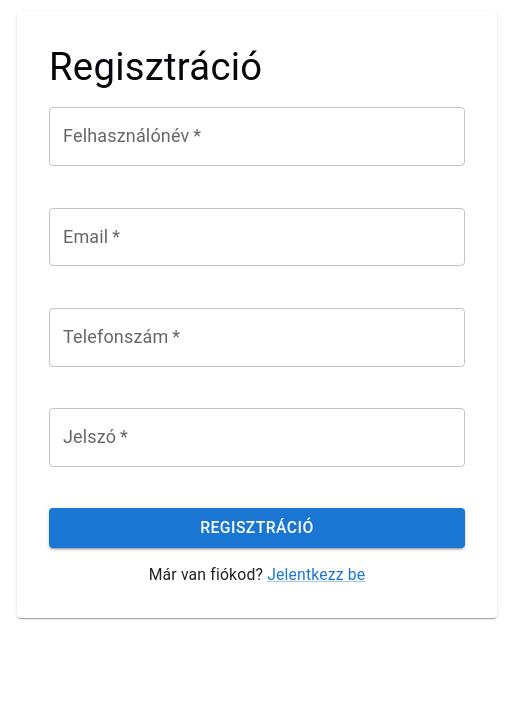
Test: Register oldal › általános szerverhibát hibaüzenetben jelenít meg
In the field named "username": (257, 137) [49, 107, 465, 166], type "foglalt"
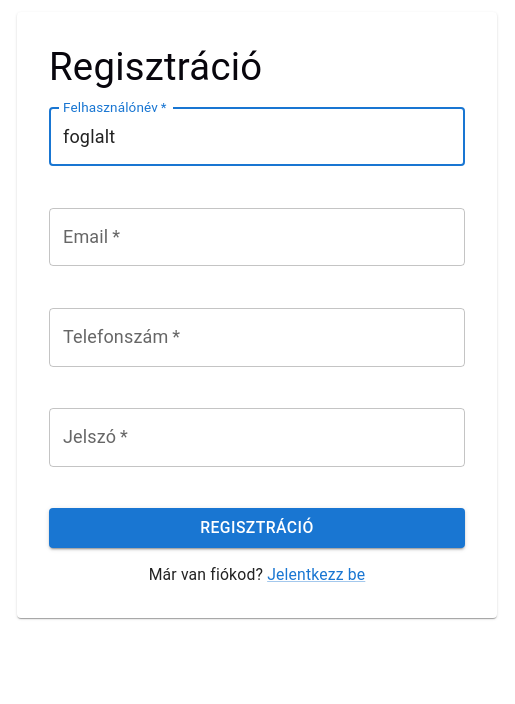
In the field labelled "Email": (257, 237) [49, 208, 465, 266], type "a@b.com"
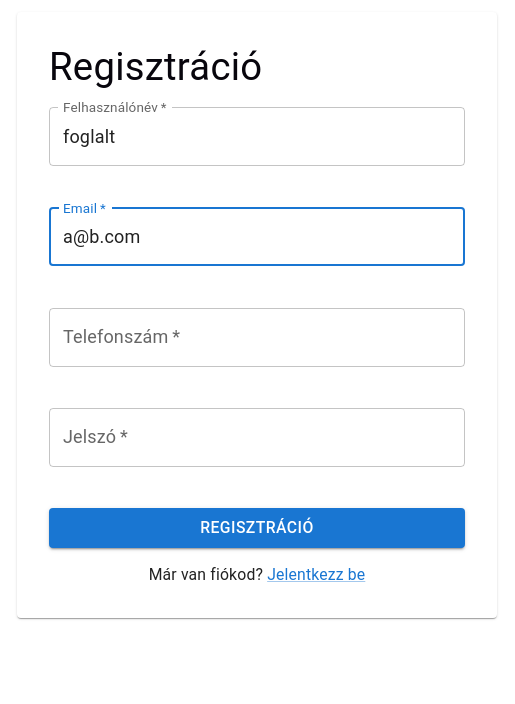
In the field named "phone": (257, 337) [49, 308, 465, 367], type "06301234567"
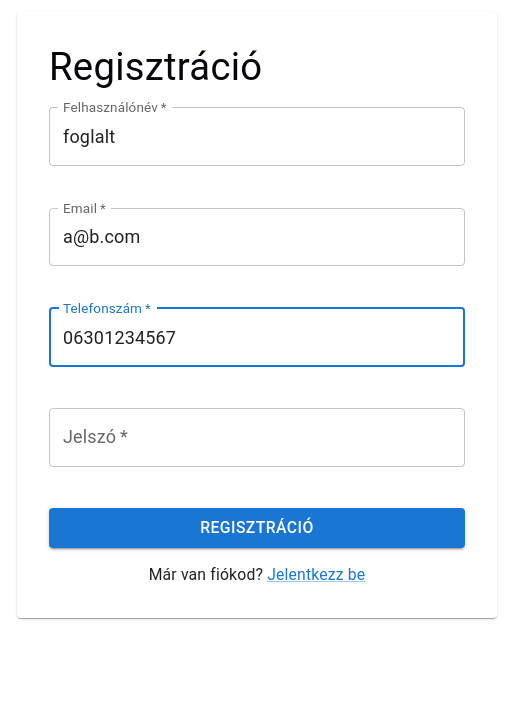
In the password field named "password": (257, 438) [49, 408, 465, 467], type "jelszo123"
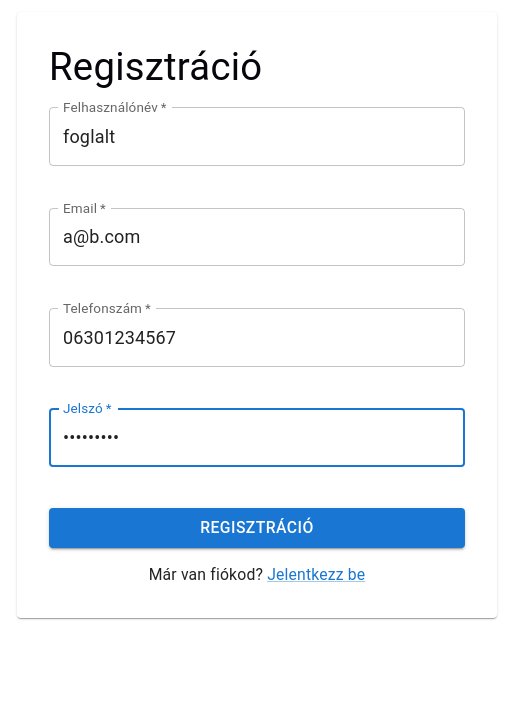
Click the button "Regisztráció": (257, 528) [49, 508, 465, 548]
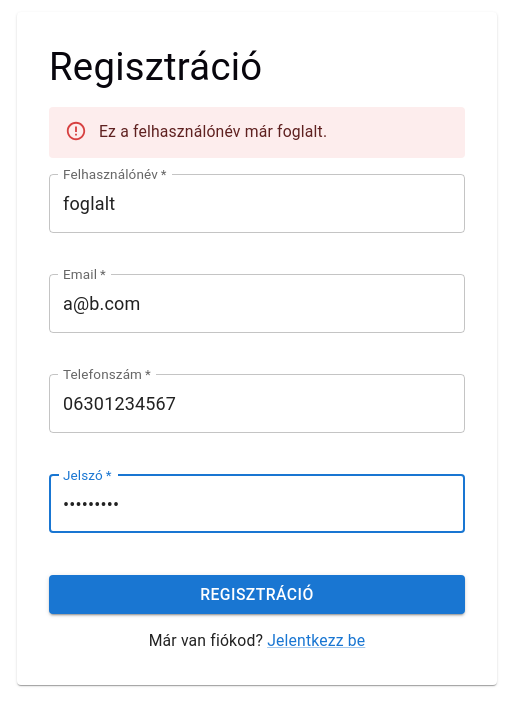
expect the text "Ez a felhasználónév már foglalt." is shown: met, box [99, 122, 327, 141]
